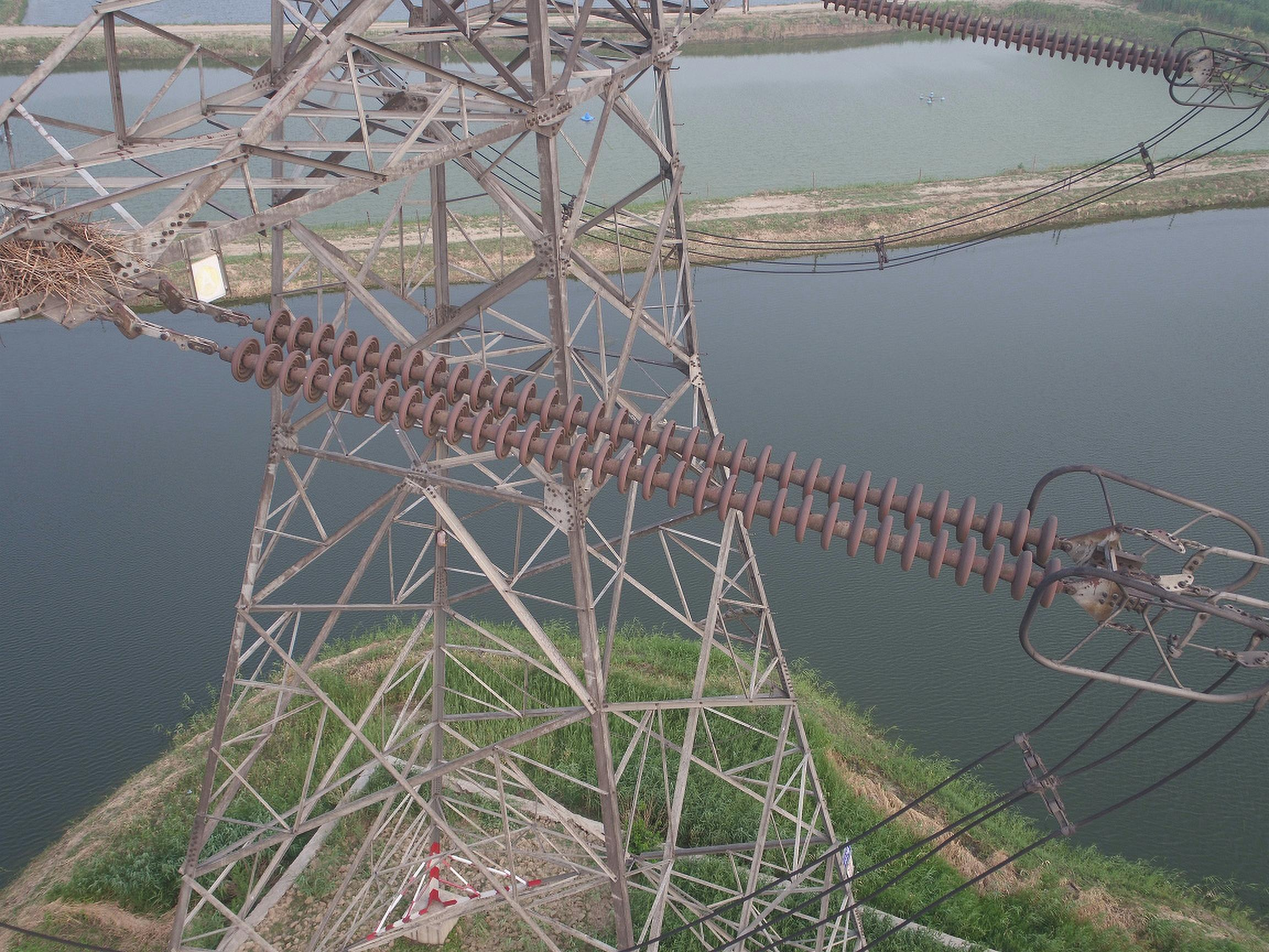insulator: (225, 306, 1069, 612), (817, 1, 1195, 85)
